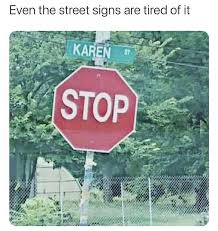stop sign: (50, 67, 139, 154)
